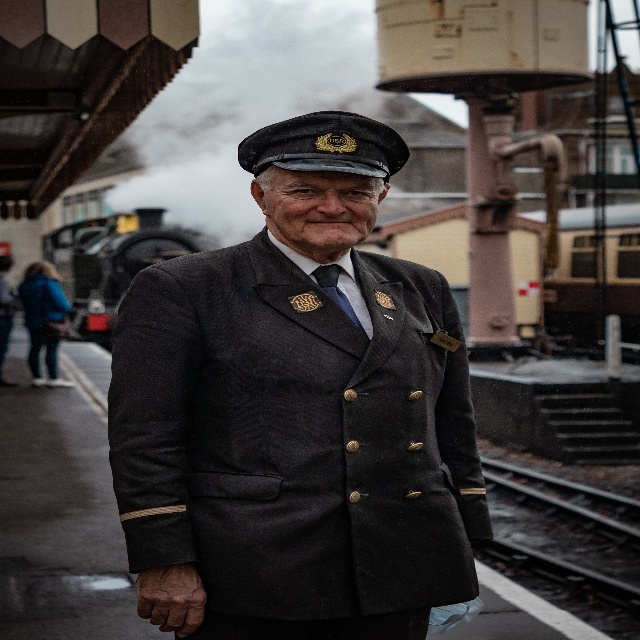Sin_guantes: (134, 568, 207, 640)
